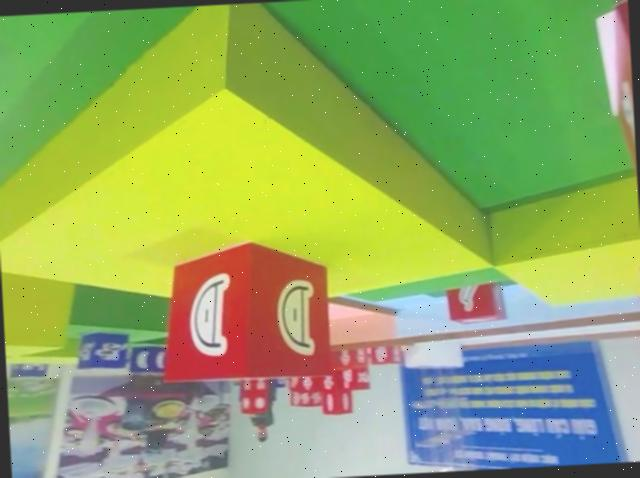R2 Real: (154, 233, 336, 388), (444, 280, 509, 331)
